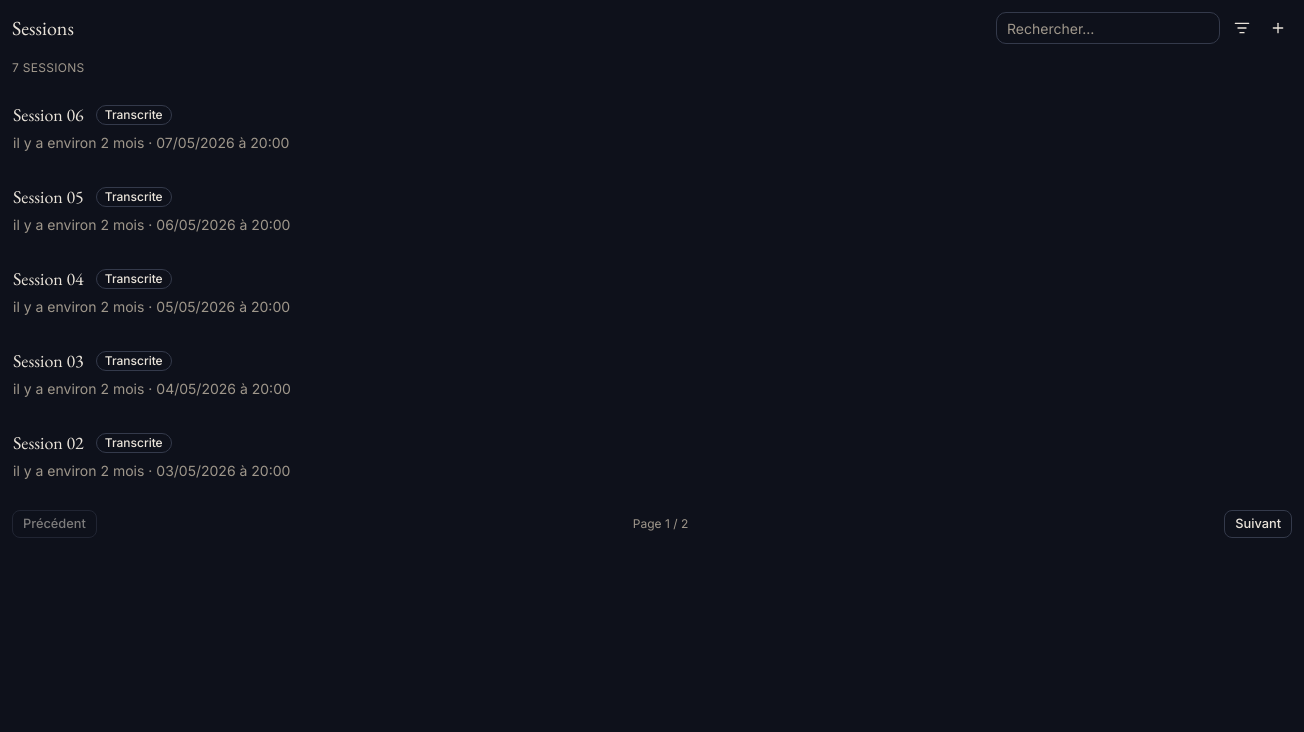
it: <SessionLibrary> › Story 4.23 AC4 — paginates at 5 sessions per page
This screenshot has width=1304, height=732.
Expected: the text "Page 1 / 2" is shown, [633,516,688,532]
Expected: the button "Précédent" is disabled, [12,510,97,538]
Click the button "Suivant" at (1258, 524), box [1224,510,1292,538]
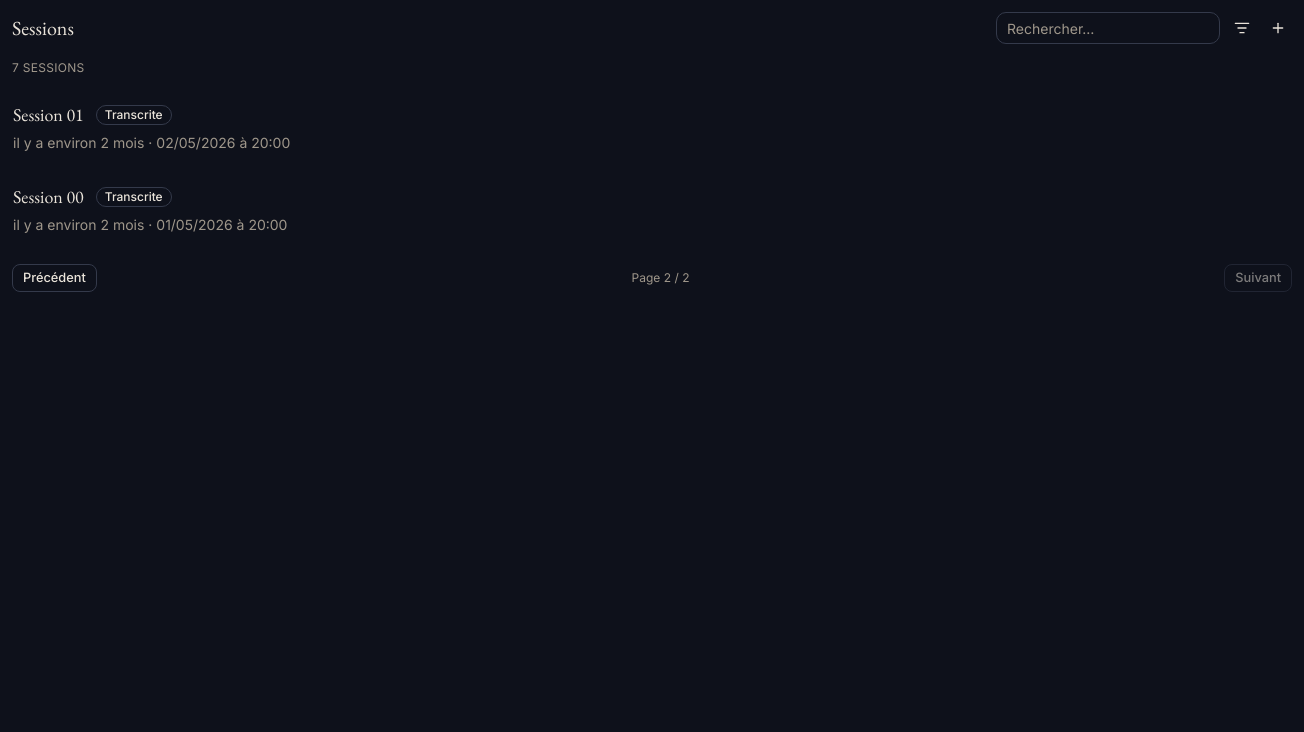
Expected: the text "Page 2 / 2" is shown, [632,270,690,286]
Expected: the button "Suivant" is disabled, [1224,264,1292,292]
